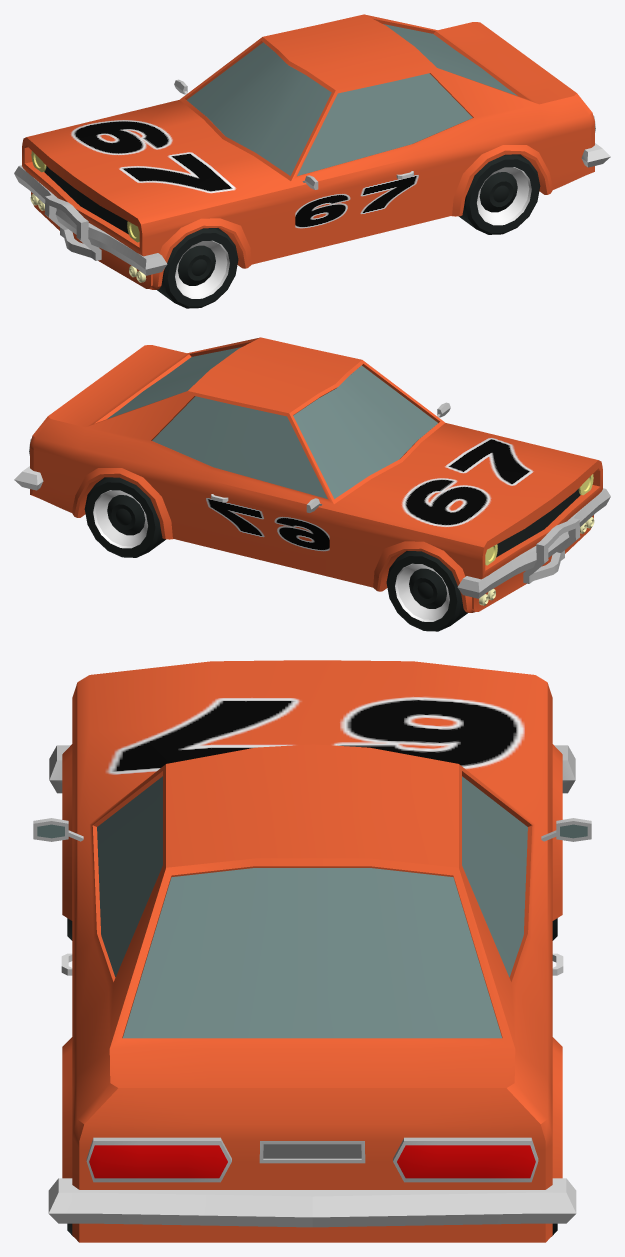
The model's file is Car2.obj.
3 renders of one model, top to bottom at view 1: azimuth 30°, elevation 25°; view 2: azimuth 150°, elevation 25°; view 3: azimuth 270°, elevation 25°, orthographic. The views are drawn at different scales.
Visible parts, largest first — view 1: car2_car2.017, whell.002_car2.020, whell.003_car2.021; view 2: car2_car2.017, whell.001_car2.019, whell_car2.018; view 3: car2_car2.017.
Boxes of the visible parts, x1=… form: car2_car2.017: x1=14, y1=14, x2=610, y2=289; whell.002_car2.020: x1=459, y1=154, x2=540, y2=234; whell.003_car2.021: x1=156, y1=228, x2=238, y2=308; car2_car2.017: x1=14, y1=337, x2=610, y2=612; whell.001_car2.019: x1=84, y1=477, x2=165, y2=557; whell_car2.018: x1=386, y1=551, x2=468, y2=631; car2_car2.017: x1=33, y1=660, x2=591, y2=1242.
Size of the model in its own units: 3.96 by 1.3 by 1.97.
1 material, 1 textured.
